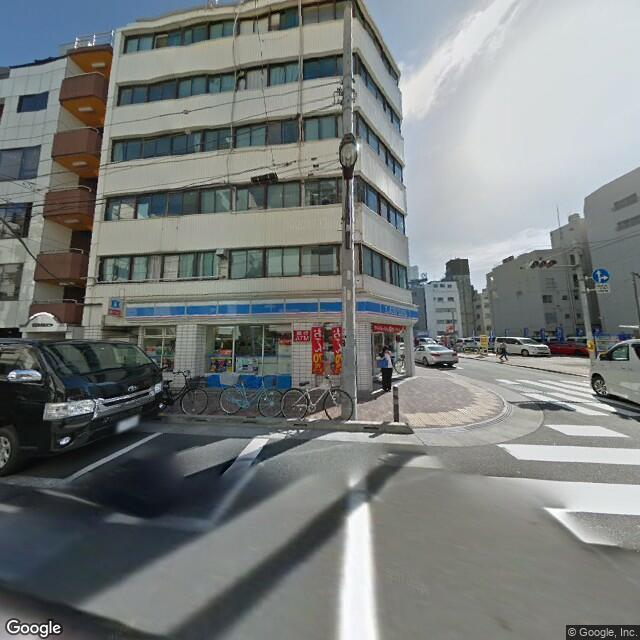lawson: (125, 293, 418, 325), (109, 294, 122, 310)
